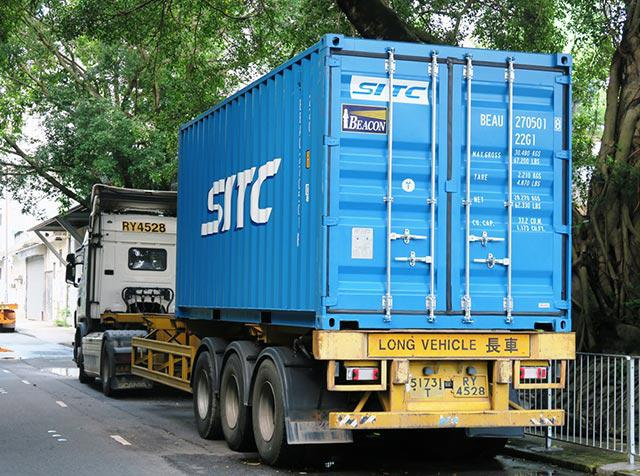ContainerNum: (478, 112, 563, 148)
